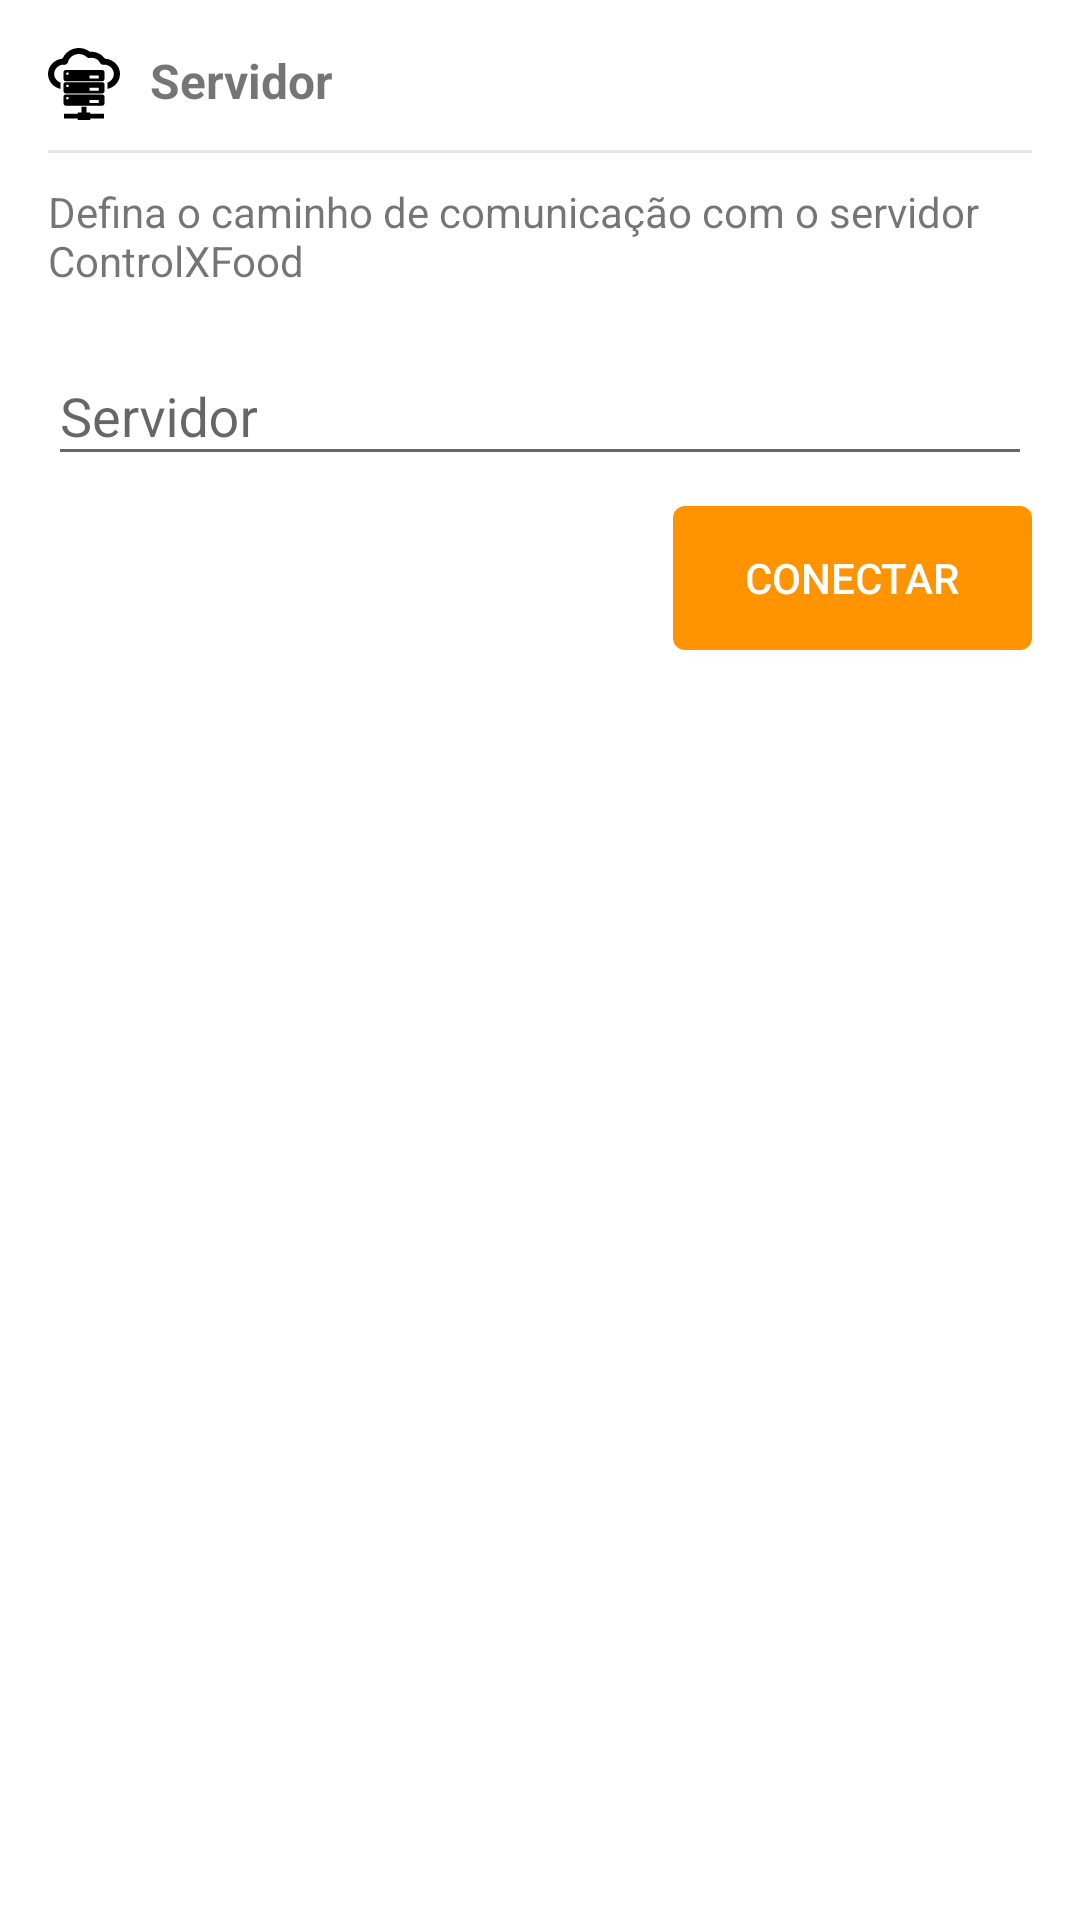

Named icons in this screenshot (1080*1920) and their centers, [x,y]:
hosting: [84,84]
